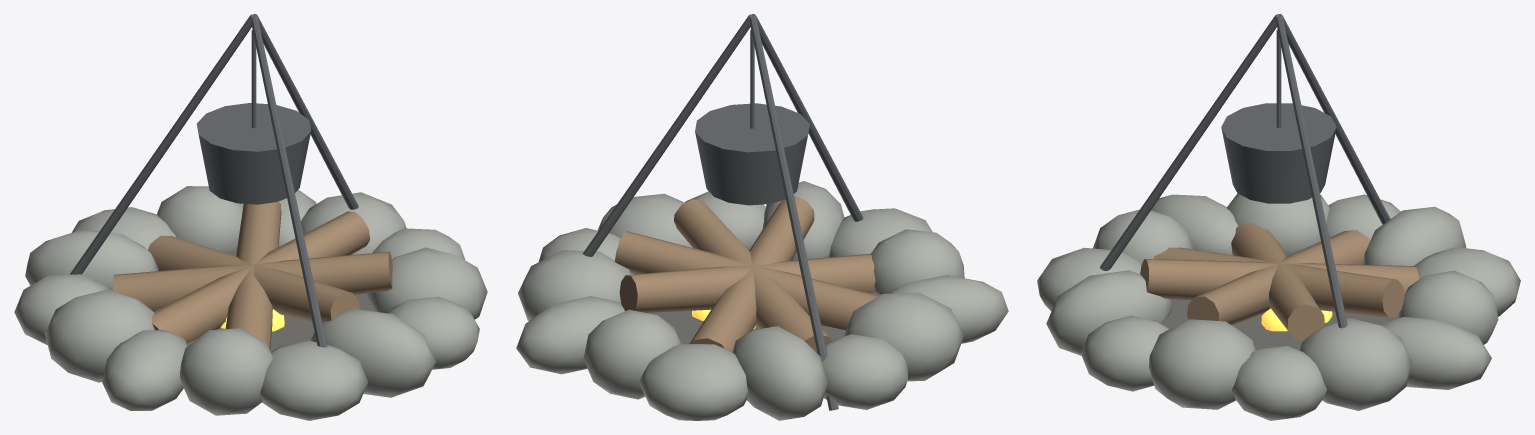
The model's file is campfire_pit.glb.
3 views of the same model, side by side, from view 1: azimuth 30°, elevation 25°; view 2: azimuth 150°, elevation 25°; view 3: azimuth 270°, elevation 25° (orthographic).
Parts seen in each view (by area): view 1: FireStones, FireLogs, CookingTripod, FireAshBed; view 2: FireStones, FireLogs, CookingTripod, FireAshBed; view 3: FireStones, FireLogs, CookingTripod, FireAshBed, FireEmbers.
Part boxes in pixels (left/top/right/bottom): FireStones: left=14, top=186, right=487, bottom=420; FireLogs: left=113, top=201, right=392, bottom=350; CookingTripod: left=70, top=14, right=358, bottom=347; FireAshBed: left=187, top=250, right=376, bottom=351; FireStones: left=516, top=181, right=1008, bottom=420; FireLogs: left=614, top=196, right=878, bottom=352; CookingTripod: left=582, top=14, right=863, bottom=410; FireAshBed: left=647, top=249, right=879, bottom=344; FireStones: left=1037, top=193, right=1520, bottom=420; FireLogs: left=1140, top=223, right=1418, bottom=341; CookingTripod: left=1100, top=14, right=1390, bottom=328; FireAshBed: left=1162, top=255, right=1398, bottom=350; FireEmbers: left=1261, top=308, right=1332, bottom=331.
Bounding box in the file's own units: 1.64 × 1.23 × 1.68.
